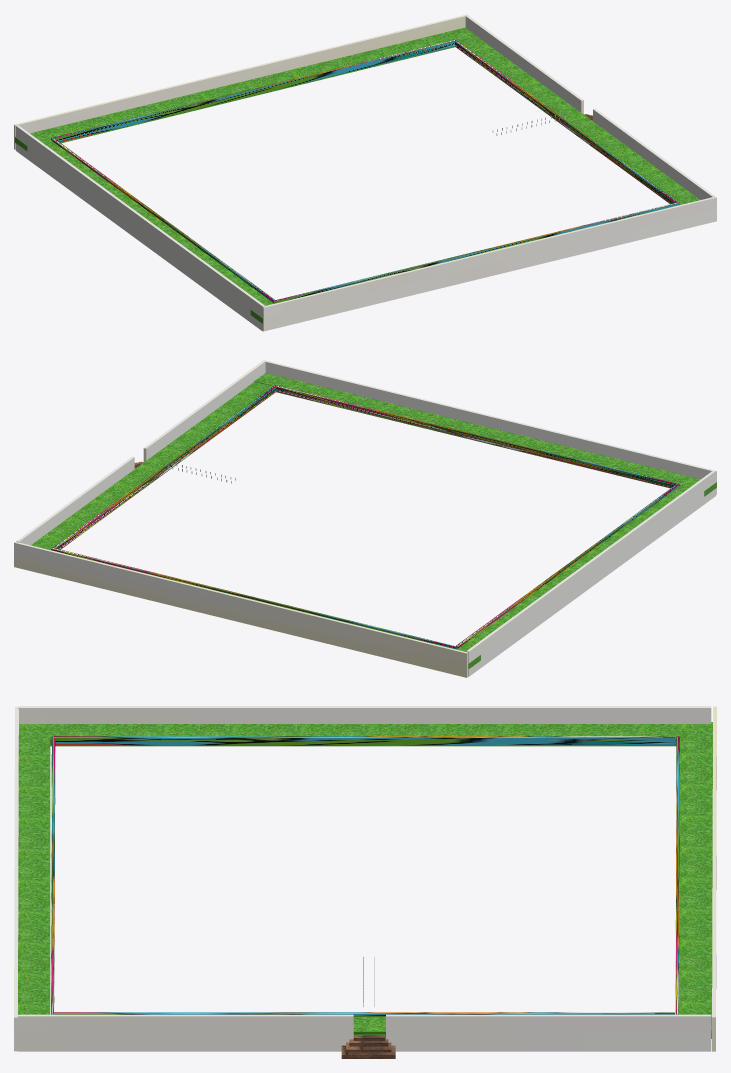
File: walls.obj
3 renders of one model, top to bottom at view 1: azimuth 30°, elevation 25°; view 2: azimuth 150°, elevation 25°; view 3: azimuth 270°, elevation 25°, orthographic. The views are drawn at different scales.
Visible parts, largest first — view 1: Cube.048_Cube.050, Cube.046_Cube.048, Cube.047_Cube.049, Cube.123_Cube.122, Cube.125_Cube.124, Cube.045_Cube.047, Cube.117_Cube.113, Cube.126_Cube.125, Cube.115_Cube.003, Cube.118_Cube.115, Cube.116_Cube.112; view 2: Cube.047_Cube.049, Cube.046_Cube.048, Cube.048_Cube.050, Cube.124_Cube.123, Cube.125_Cube.124, Cube.045_Cube.047, Cube.118_Cube.115, Cube.126_Cube.125, Cube.115_Cube.003, Cube.117_Cube.113, Cube.116_Cube.112; view 3: Cube.045_Cube.047, Cube.046_Cube.048, Cube.123_Cube.122, Cube.124_Cube.123, Cube.126_Cube.125, Cube.116_Cube.112, Cube.115_Cube.003, Cube.047_Cube.049, Cube.048_Cube.050, Cube.117_Cube.113, Cube.118_Cube.115, Cube.125_Cube.124.
Part boxes in pixels (left/top/right/bottom): Cube.048_Cube.050: left=262, top=196, right=716, bottom=331; Cube.046_Cube.048: left=16, top=125, right=265, bottom=331; Cube.047_Cube.049: left=14, top=14, right=468, bottom=149; Cube.123_Cube.122: left=15, top=27, right=477, bottom=151; Cube.125_Cube.124: left=456, top=36, right=699, bottom=204; Cube.045_Cube.047: left=465, top=15, right=714, bottom=199; Cube.117_Cube.113: left=51, top=39, right=457, bottom=142; Cube.126_Cube.125: left=35, top=135, right=273, bottom=305; Cube.115_Cube.003: left=455, top=40, right=677, bottom=203; Cube.118_Cube.115: left=273, top=202, right=679, bottom=303; Cube.116_Cube.112: left=52, top=139, right=275, bottom=302; Cube.047_Cube.049: left=14, top=541, right=468, bottom=677; Cube.046_Cube.048: left=466, top=470, right=715, bottom=676; Cube.048_Cube.050: left=263, top=360, right=716, bottom=494; Cube.124_Cube.123: left=254, top=373, right=716, bottom=496; Cube.125_Cube.124: left=31, top=382, right=275, bottom=549; Cube.045_Cube.047: left=16, top=360, right=265, bottom=544; Cube.118_Cube.115: left=273, top=385, right=679, bottom=487; Cube.126_Cube.125: left=457, top=480, right=696, bottom=651; Cube.115_Cube.003: left=53, top=385, right=276, bottom=549; Cube.117_Cube.113: left=51, top=547, right=457, bottom=649; Cube.116_Cube.112: left=456, top=484, right=679, bottom=648; Cube.045_Cube.047: left=17, top=1014, right=711, bottom=1051; Cube.046_Cube.048: left=17, top=706, right=711, bottom=723; Cube.123_Cube.122: left=678, top=722, right=712, bottom=1038; Cube.124_Cube.123: left=18, top=724, right=50, bottom=1014; Cube.126_Cube.125: left=31, top=724, right=694, bottom=746; Cube.116_Cube.112: left=54, top=736, right=674, bottom=745; Cube.115_Cube.003: left=54, top=1012, right=674, bottom=1016; Cube.047_Cube.049: left=712, top=706, right=716, bottom=1051; Cube.048_Cube.050: left=14, top=707, right=18, bottom=1051; Cube.117_Cube.113: left=675, top=736, right=679, bottom=1014; Cube.118_Cube.115: left=51, top=736, right=55, bottom=1014; Cube.125_Cube.124: left=353, top=1017, right=385, bottom=1037.
Size of the model in its own units: 120 by 6.15 by 111.
13 materials, 12 textured.
